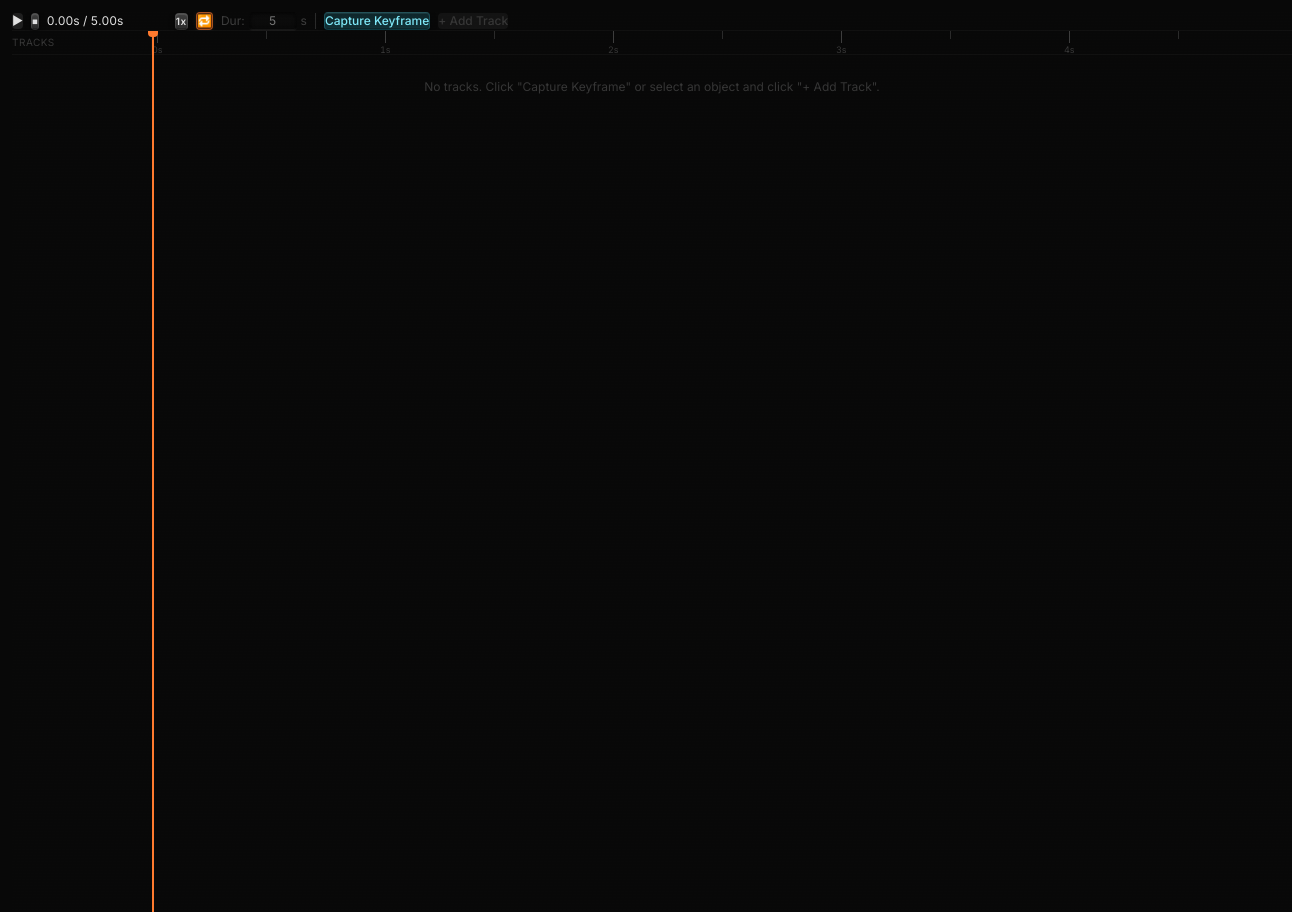
Test: AnimationTimeline › clicking play toggles to pause
Click the button named "Play animation" at (18, 21), box [12, 13, 23, 29]
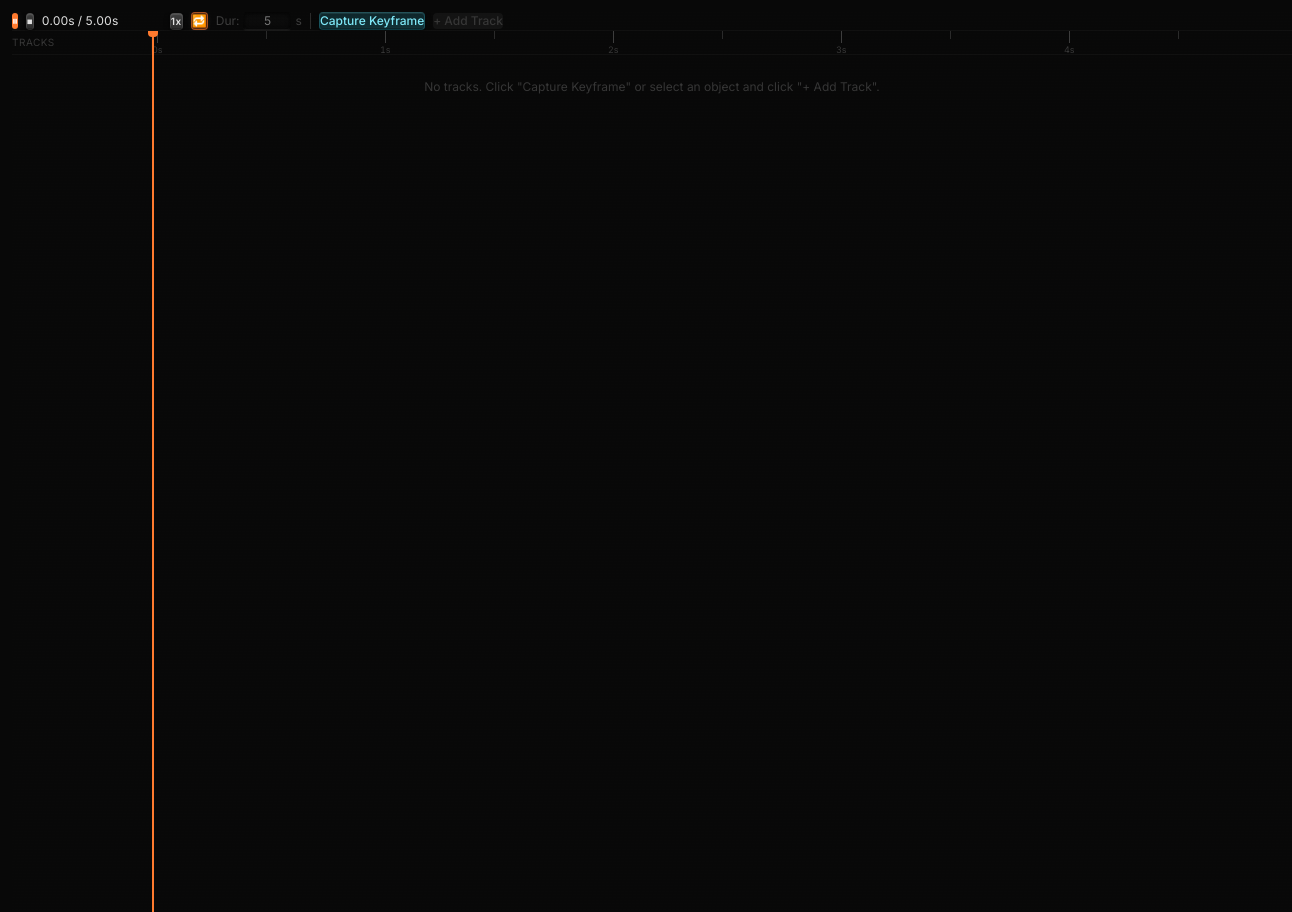
Now the button named "Pause animation" is shown, box [12, 13, 18, 29]
